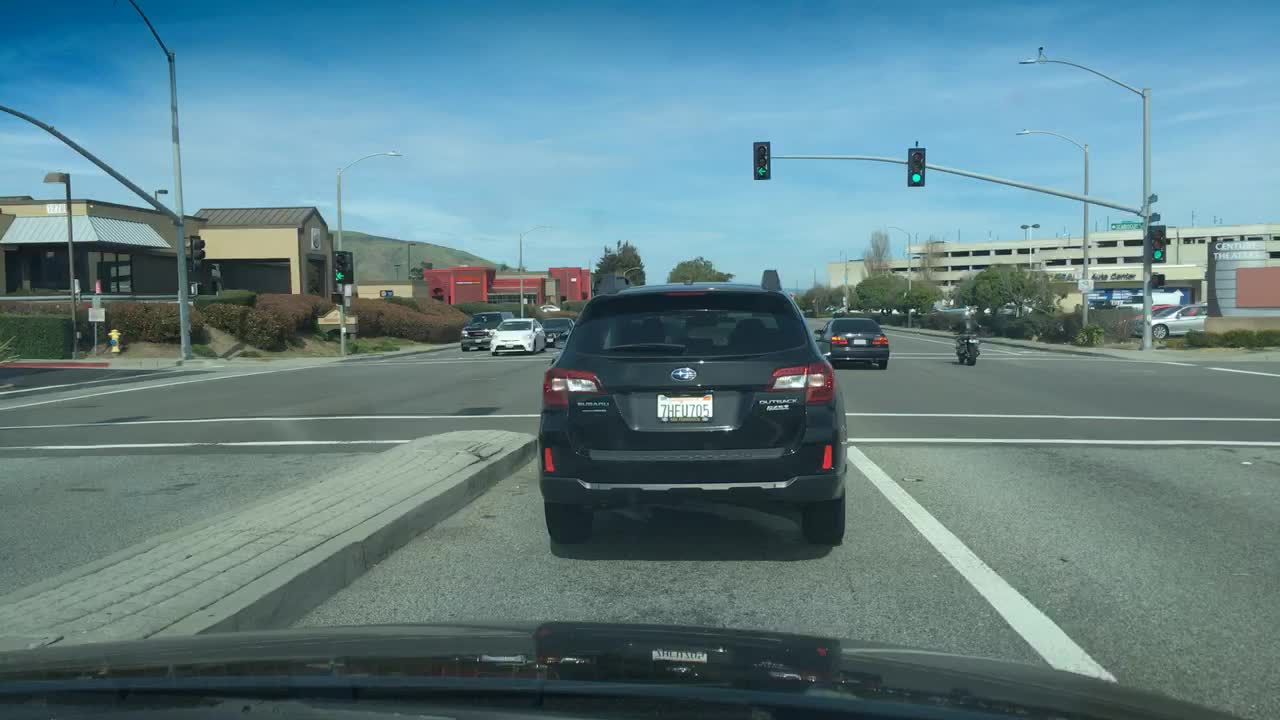car: (541, 278, 848, 545), (811, 311, 889, 369), (454, 310, 508, 350), (487, 317, 546, 353), (1155, 302, 1208, 341), (1127, 305, 1179, 338), (538, 316, 574, 344), (1130, 307, 1166, 332), (999, 299, 1032, 316), (531, 301, 558, 310)
motor: (954, 329, 981, 364)
rider: (958, 305, 981, 357)
traffic light: (188, 235, 204, 278), (1148, 227, 1164, 263), (754, 143, 769, 179), (332, 248, 348, 281), (910, 149, 923, 182)
traffic sign: (1108, 221, 1143, 230), (84, 308, 104, 320), (1147, 213, 1162, 225), (1147, 193, 1159, 203)
